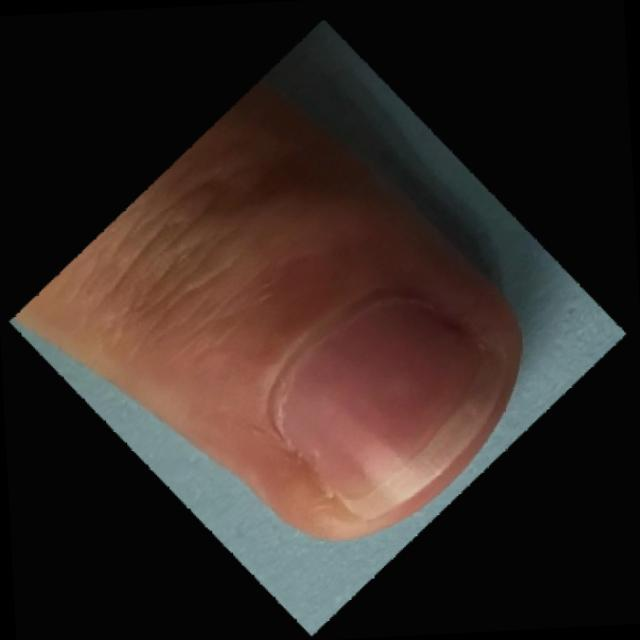Nail: (273, 298, 497, 521)
